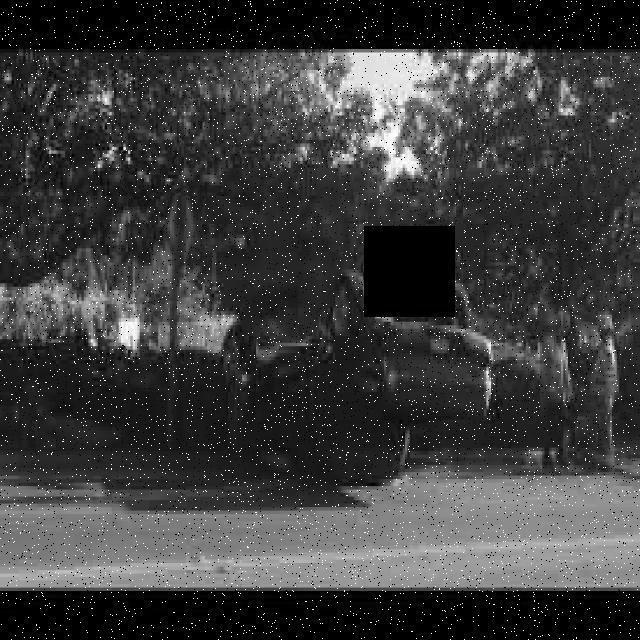accident: (217, 271, 497, 492)
